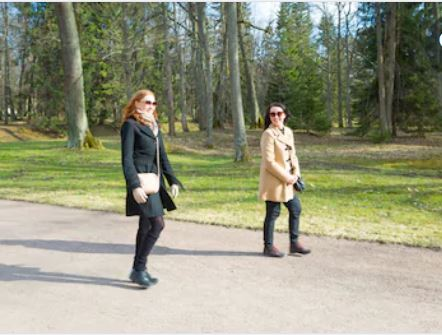Good: (120, 92, 310, 289)
